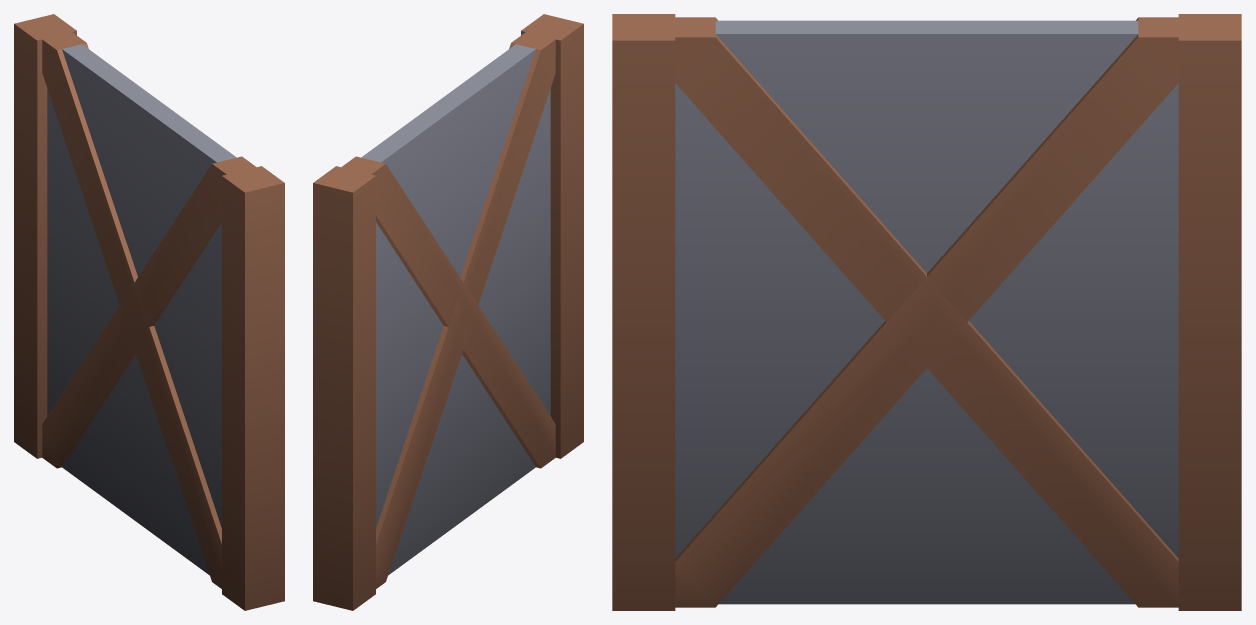
File: wall-detail-cross.glb
3 renders of one model, left to right at view 1: azimuth 30°, elevation 25°; view 2: azimuth 150°, elevation 25°; view 3: azimuth 270°, elevation 25°, orthographic. The views are drawn at different scales.
Visible parts, largest first — view 1: wall-detail-cross; view 2: wall-detail-cross; view 3: wall-detail-cross.
Part boxes in pixels (x1,y1,x2,y2): wall-detail-cross: (14, 14, 284, 610); wall-detail-cross: (313, 14, 583, 610); wall-detail-cross: (612, 14, 1241, 610).
Bounding box in the file's own units: 0.2999 × 3 × 3.
